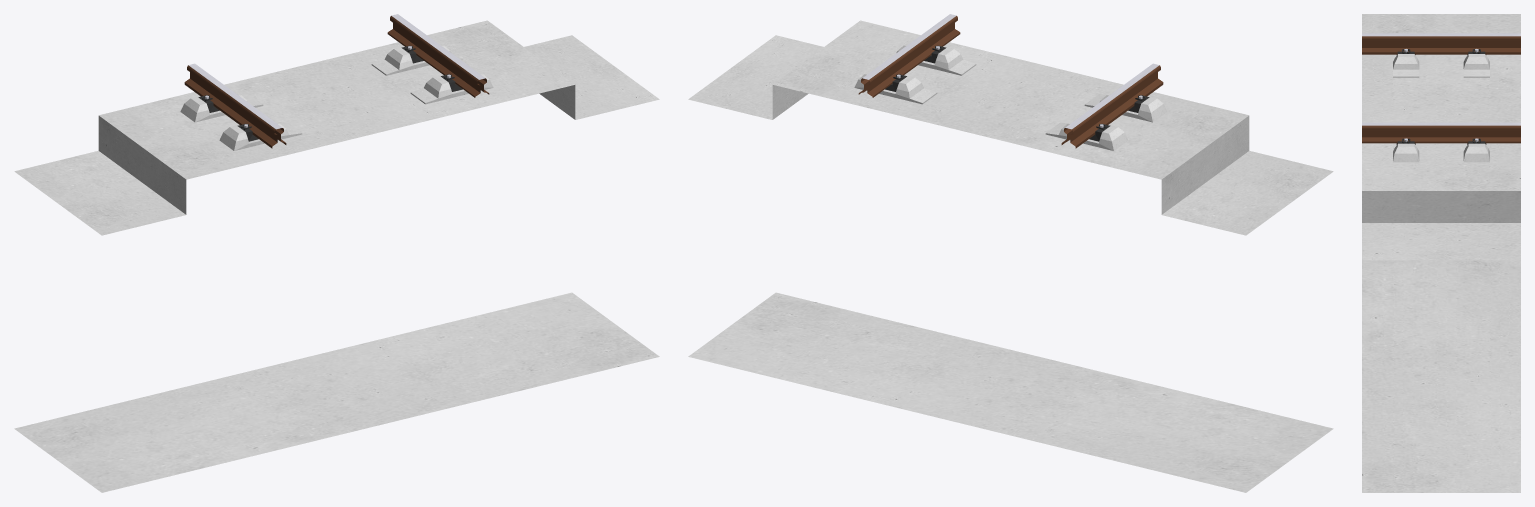
Rendered from msd_rail_viaduct.obj.
3 views of the same model, side by side, from view 1: azimuth 30°, elevation 25°; view 2: azimuth 150°, elevation 25°; view 3: azimuth 270°, elevation 25° (orthographic). The views are drawn at different scales.
Visible parts, largest first — view 1: cuboid; view 2: cuboid; view 3: cuboid.
Part boxes in pixels (bbox=[...]): cuboid: bbox=[14, 14, 659, 492]; cuboid: bbox=[688, 14, 1333, 492]; cuboid: bbox=[1362, 14, 1520, 492].
Bounding box in the file's own units: 4.12 × 2.27 × 1.12.
Materials: 4 (4 with a texture image).
